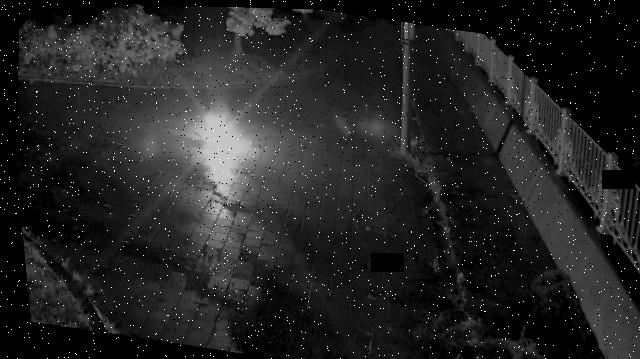fire: (178, 101, 257, 189)
